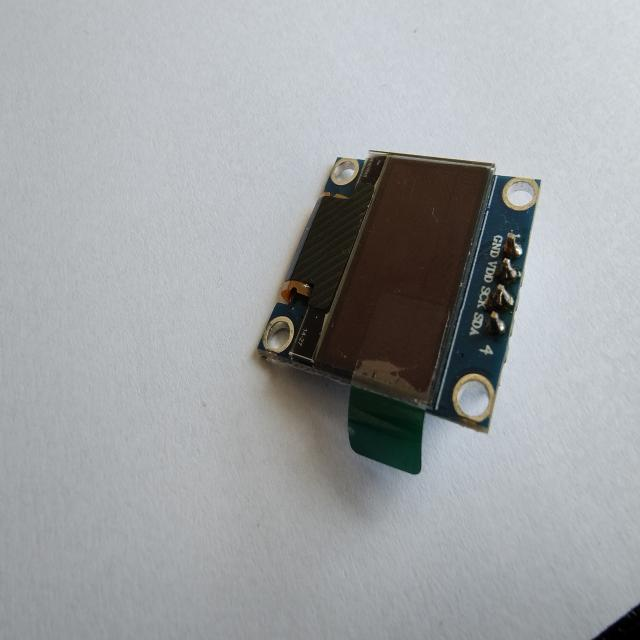oled: (253, 132, 524, 492)
